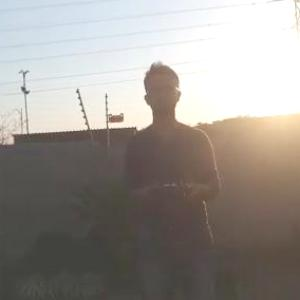follow: (123, 57, 229, 299)
